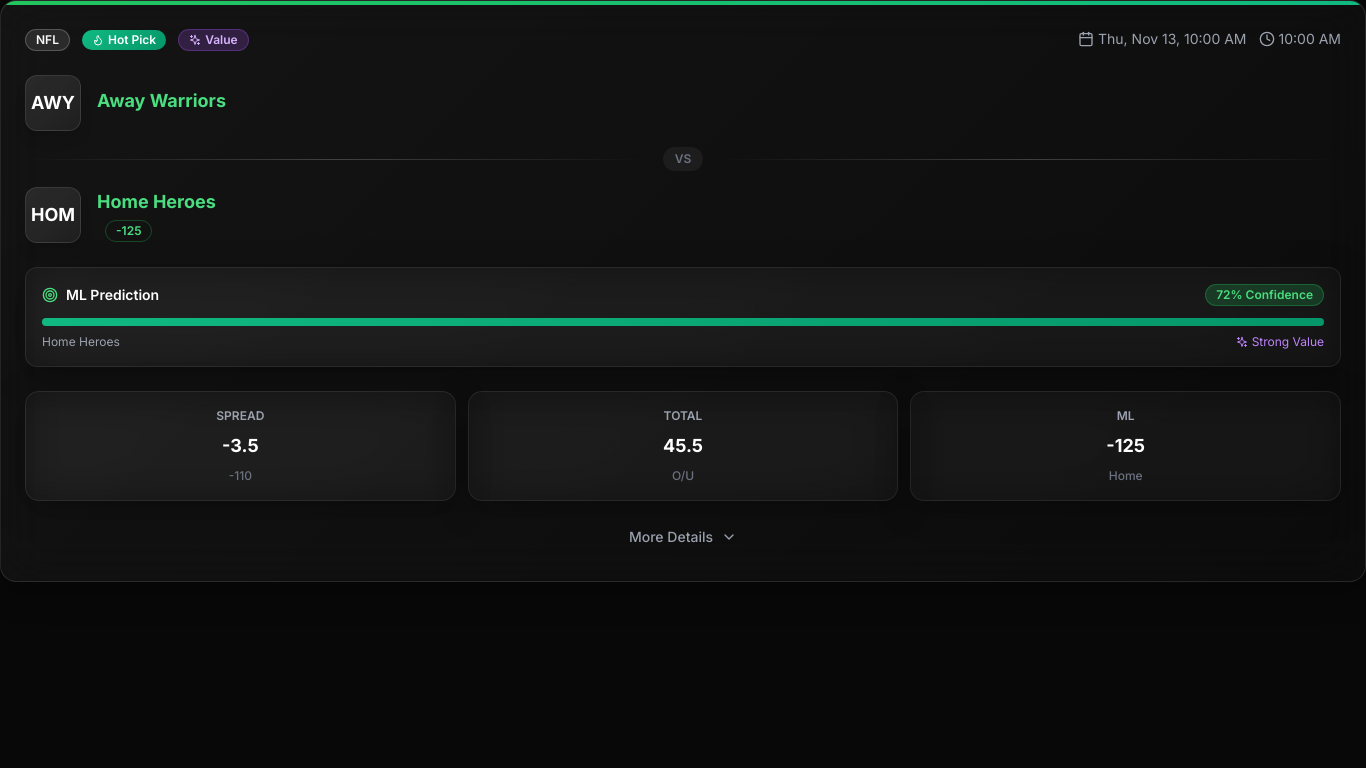
Test: GameCardEnhanced › reveals featured parlays when expanded
Click the button "More Details": (683, 537) [25,517,1341,557]
(page scrolled)
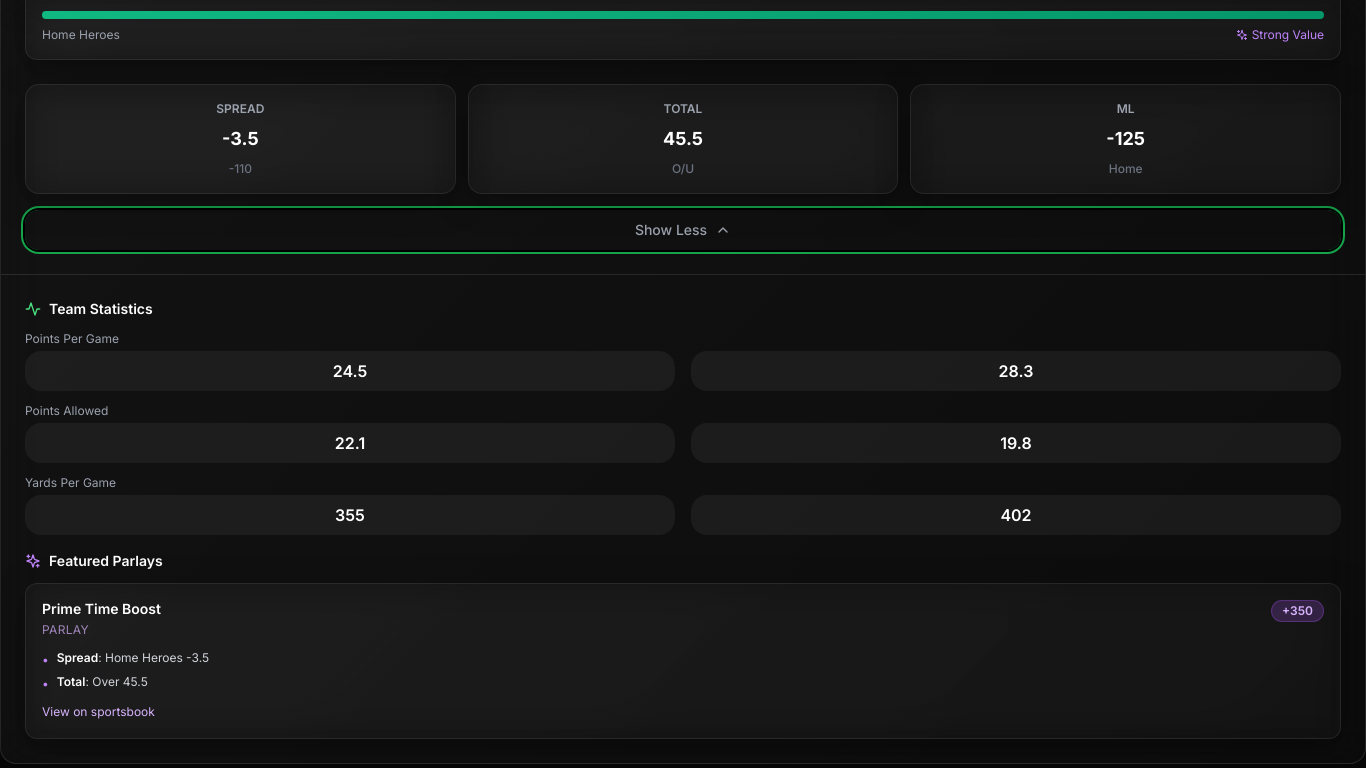
Expected: the heading "Featured Parlays" is shown, [25,552,163,569]
Expected: the text "Prime Time Boost" is shown, [42,600,161,618]
Expected: the text "+350" is shown, [1271,600,1324,622]
